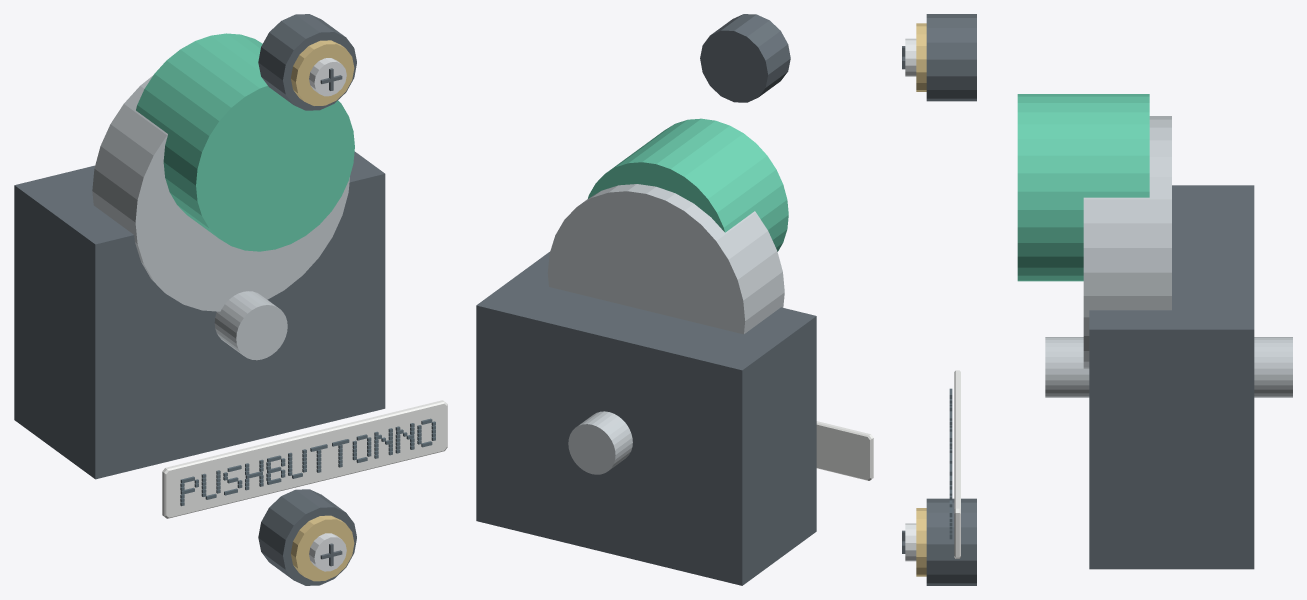
Rendered from pushButtonNO.glb.
The picture shows the model from 3 angles, left to right: view 1: azimuth 30°, elevation 25°; view 2: azimuth 150°, elevation 25°; view 3: azimuth 270°, elevation 25°; orthographic projection. The views are drawn at different scales.
Parts seen in each view (by area): view 1: pushButtonNO-preview; view 2: pushButtonNO-preview; view 3: pushButtonNO-preview.
Part boxes in pixels (x1,y1,x2,y2): pushButtonNO-preview: (14,14,447,585); pushButtonNO-preview: (476,14,873,585); pushButtonNO-preview: (902,14,1292,585).
Bounding box in the file's own units: 1.22 × 2.23 × 1.4.
